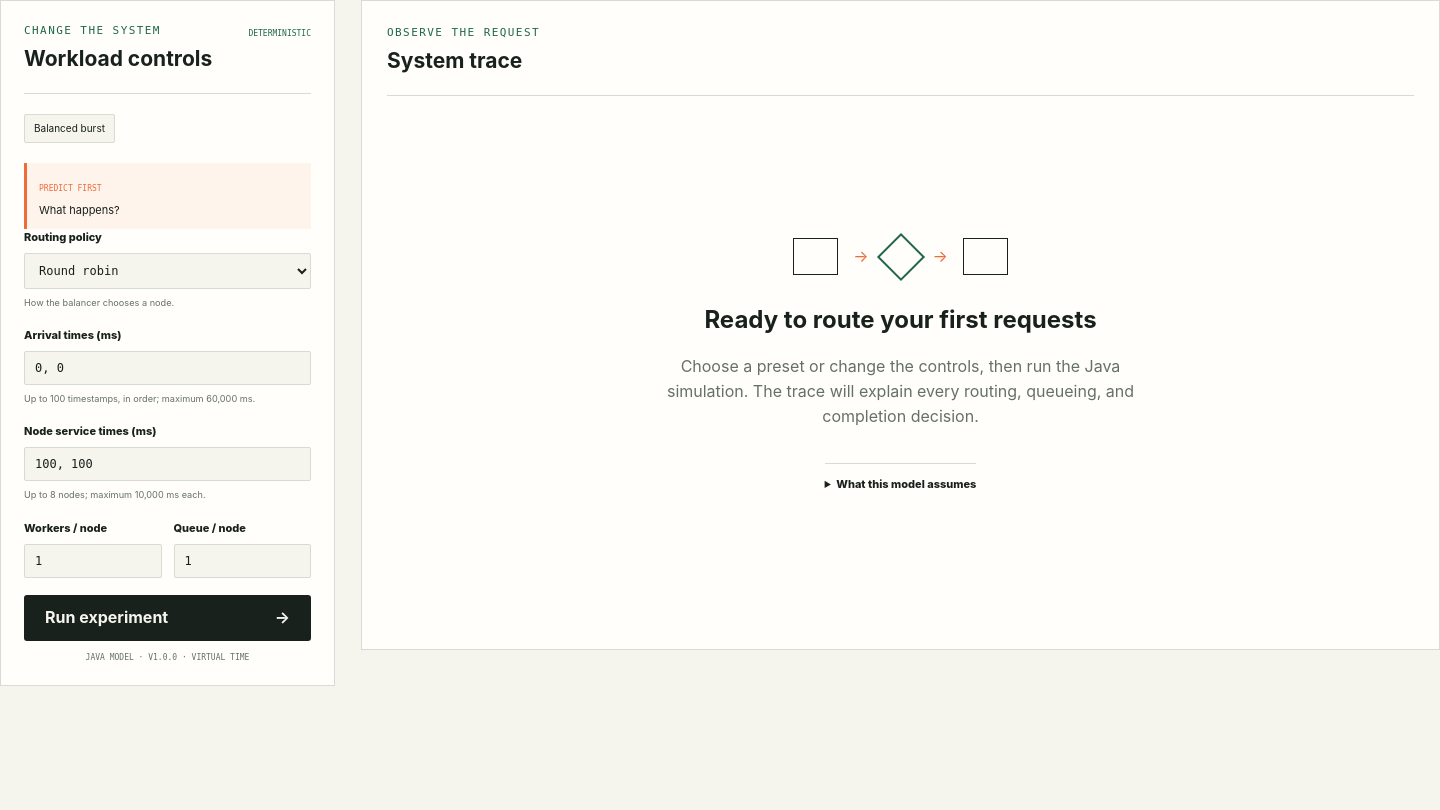
Test: Request flow playground › uses descriptor limits for control attributes and validation
Replace the text in the number field labelled "Workers / node" with "3" at point(93, 561), box [24,544,162,578]
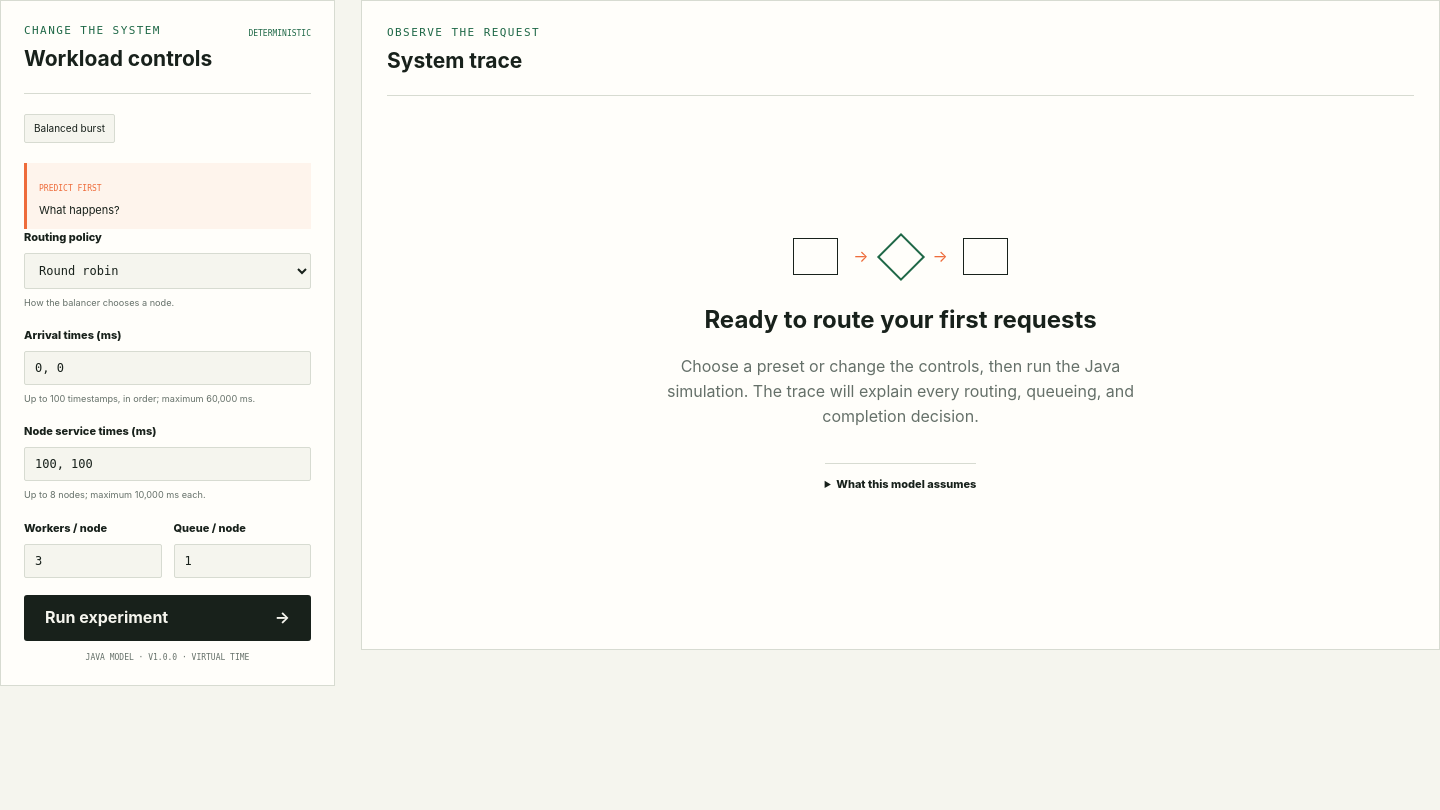
Click the button "Run experiment →".
click(168, 618)  # box [24,595,311,641]
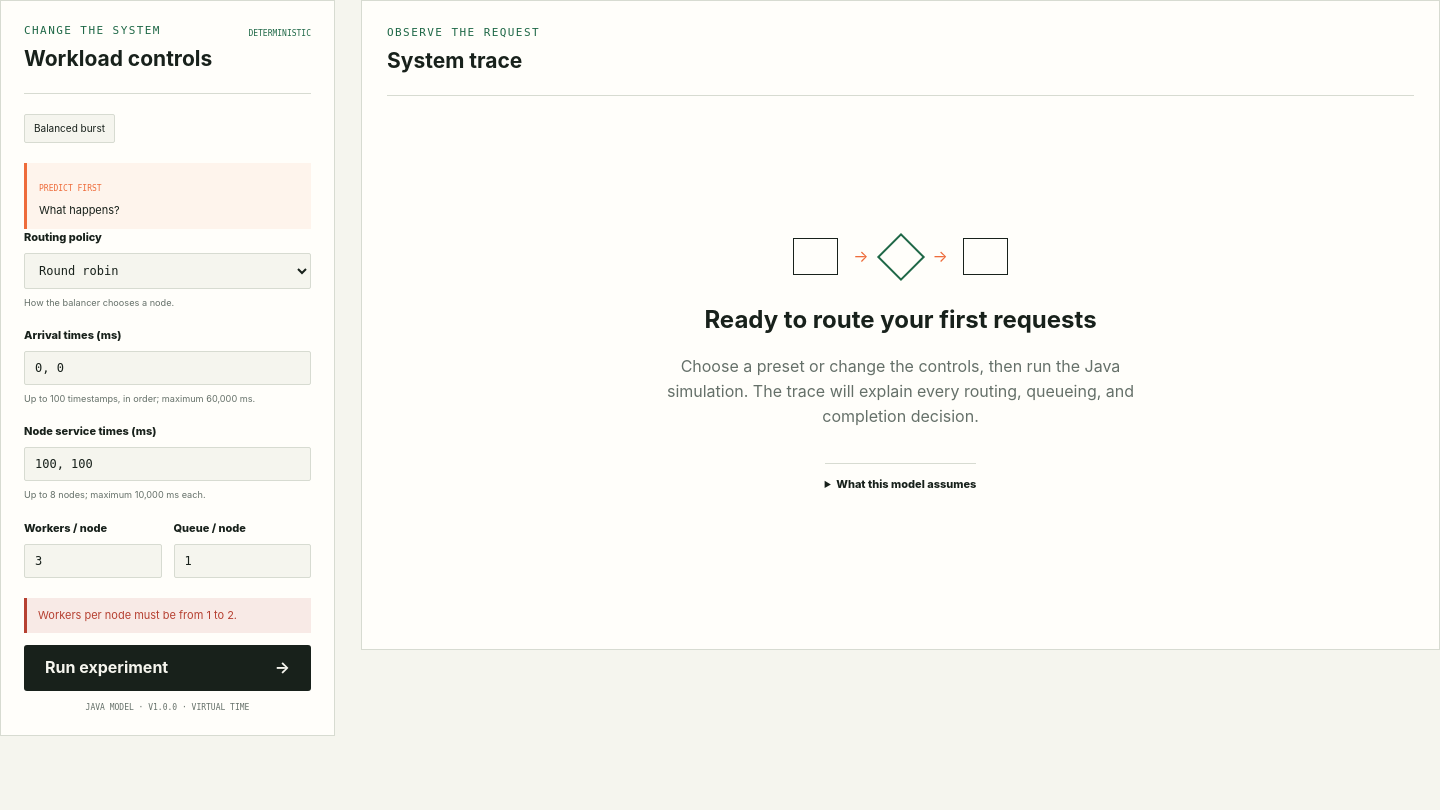
Expected: the message shows "Workers per node must be from 1 to 2", [38,608,237,622]
